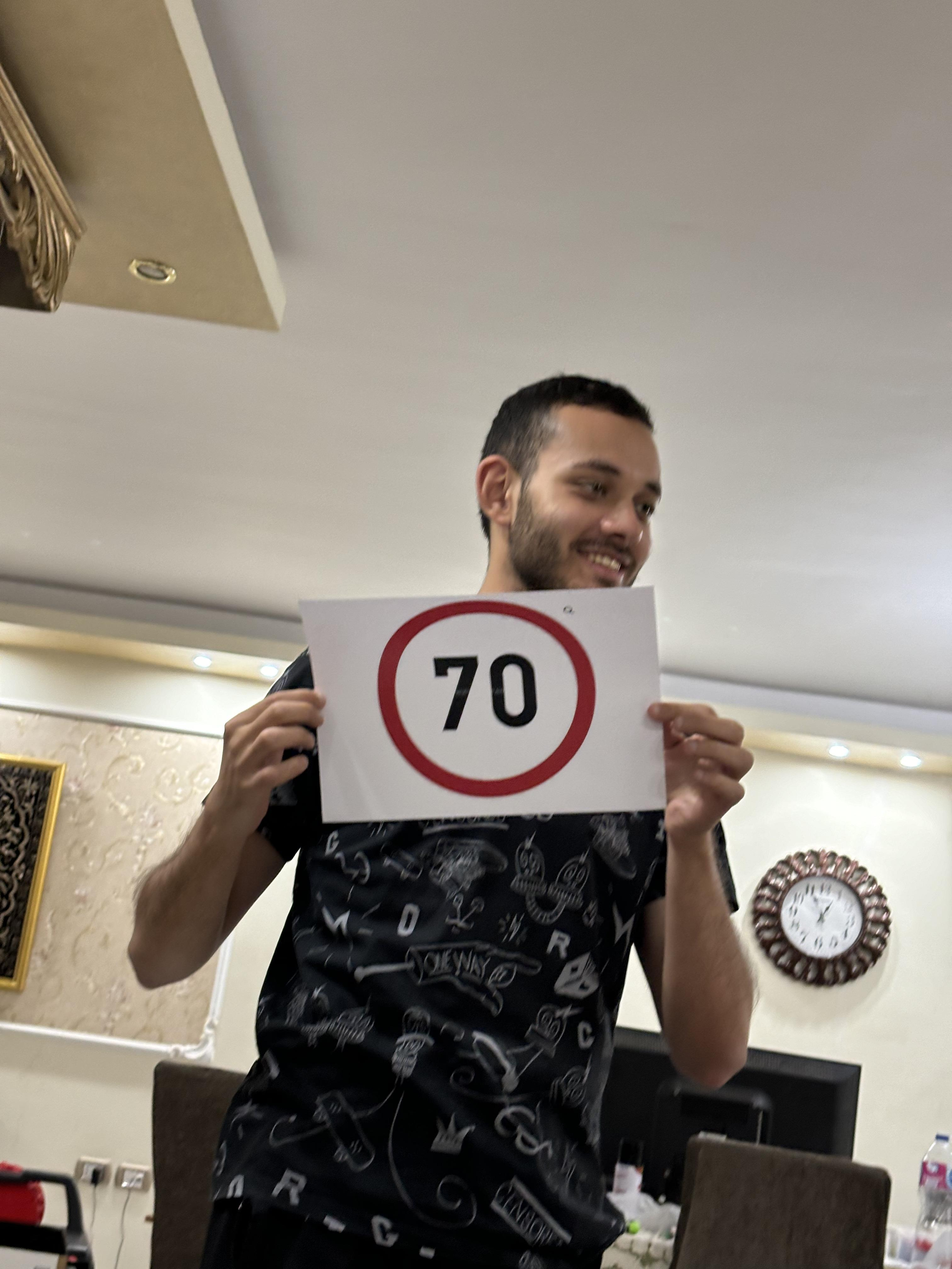70-Speed: (374, 602, 602, 800)
